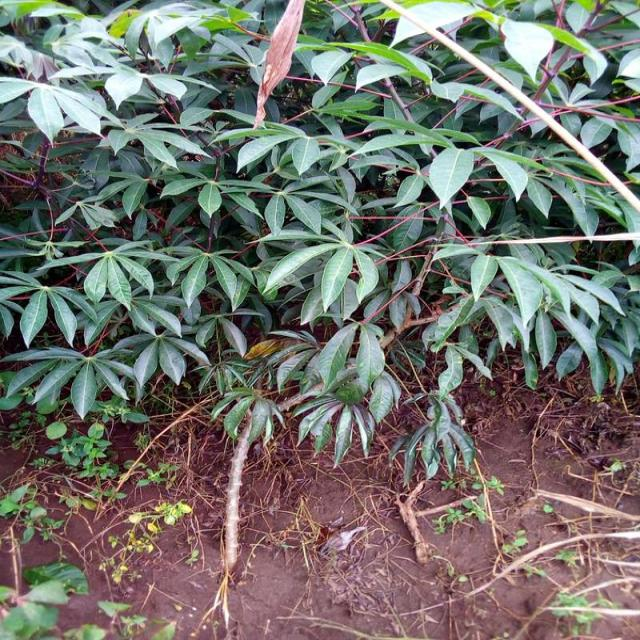cassava leaf: (1, 0, 638, 490), (428, 145, 474, 213)
